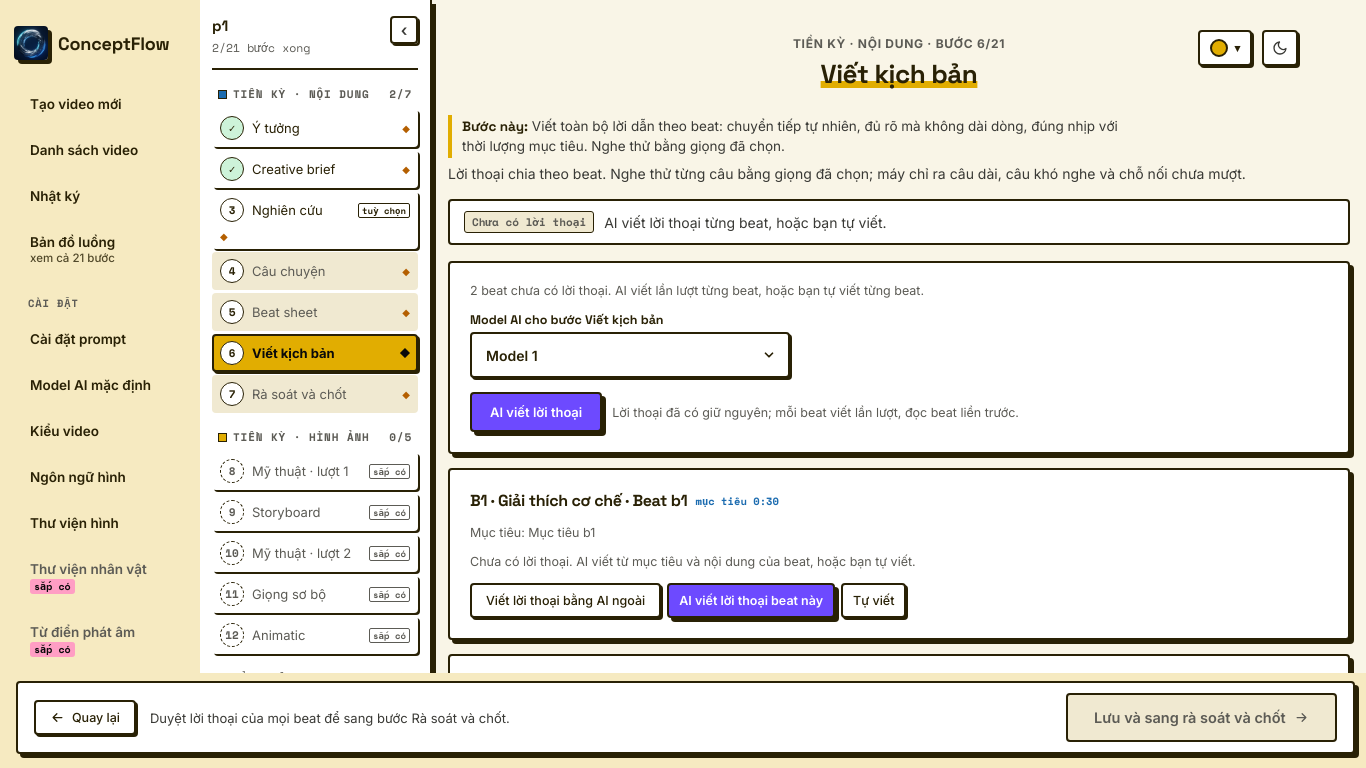
Test case: ScriptWriteStepPage › shows the loading card only on the beat being written, not on the other empty beats
The width and height of the screenshot is (1366, 768).
Click the button with test id "script-write-b1". click: (751, 601)
box: [667,583,835,618]
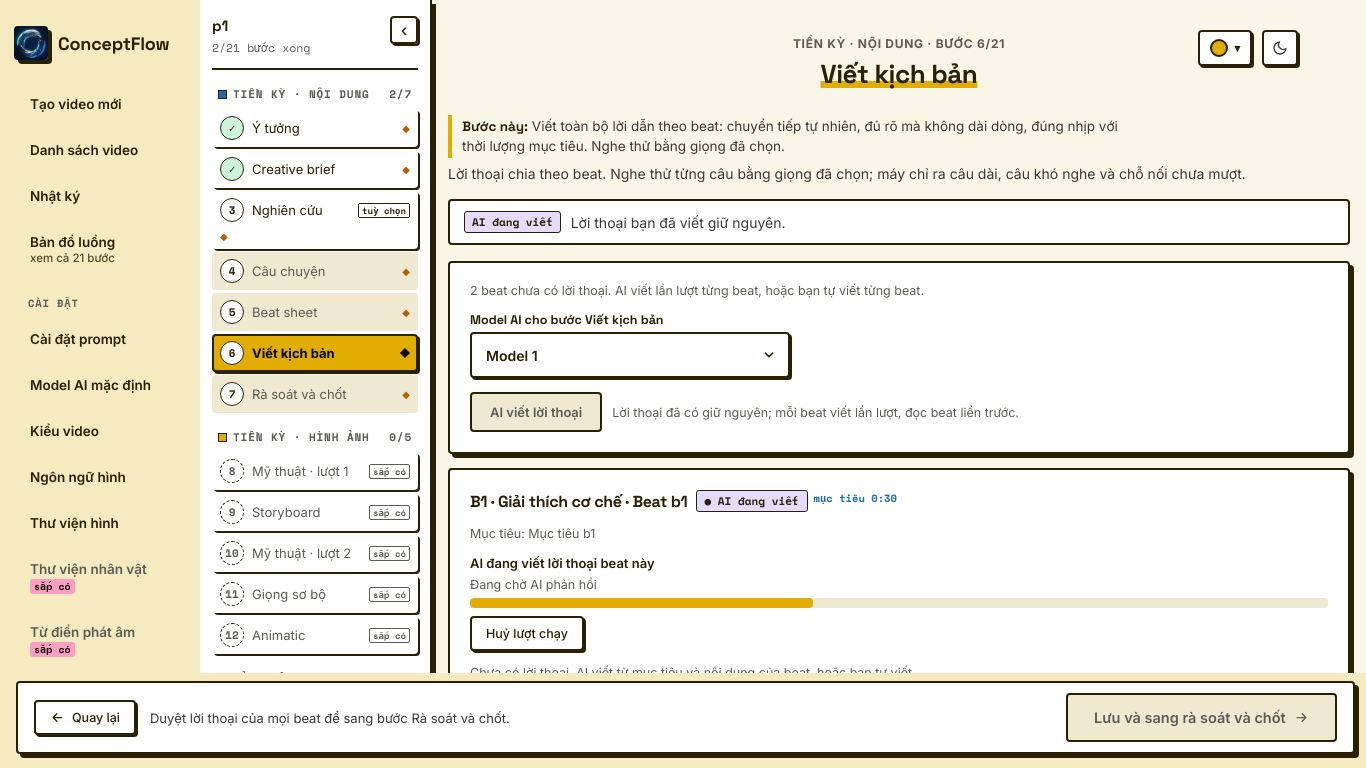
Check: the element with test id "script-progress-b1" is shown, box [470,555,1328,651]
